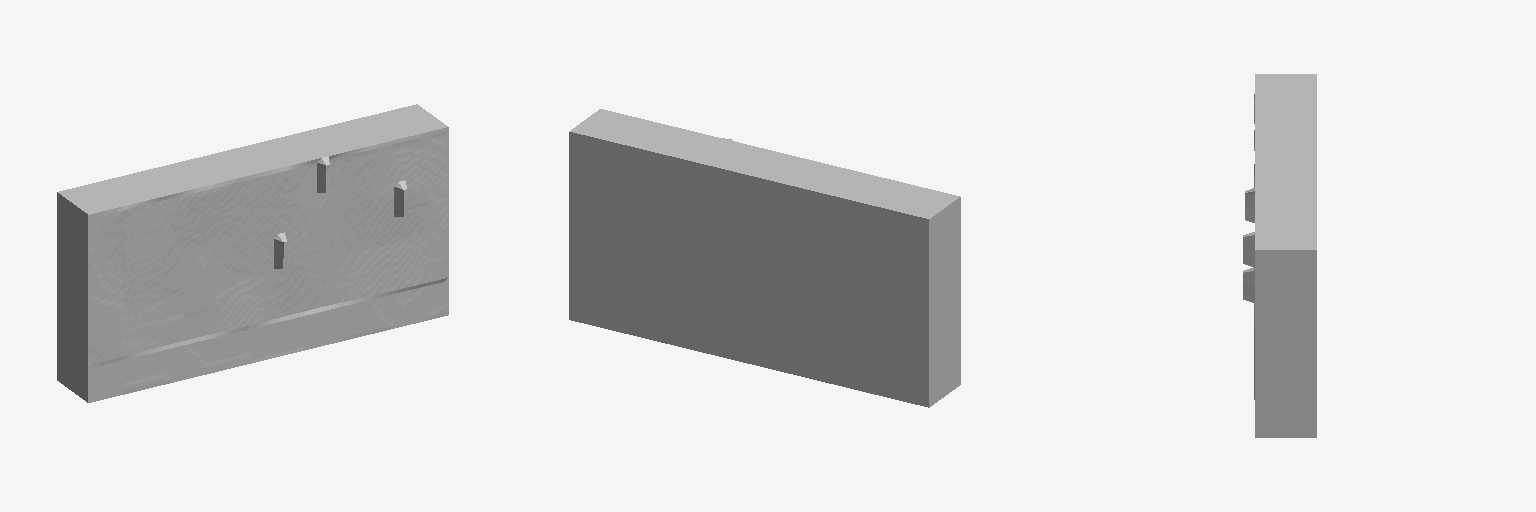
Rendered from rectangular_prism_bumps_6_3.obj.
The picture shows the model from 3 angles: view 1: azimuth 30°, elevation 25°; view 2: azimuth 150°, elevation 25°; view 3: azimuth 270°, elevation 25°; orthographic projection.
Bounding box in the file's own units: 10 × 5 × 1.8.